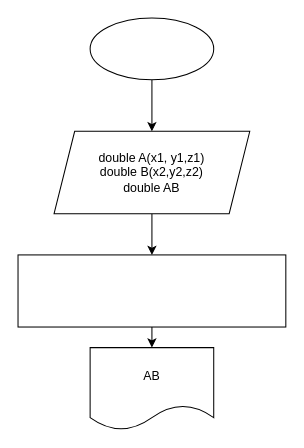
This 304x448 diagram has some shape labels left out. The box of each missing label's shape, as (x1, y1, x2, y2) in pixels:
AB = sqrt(pow((x2-x1),2)+((y2-y1),2)+((z2-z1)): (17, 254, 286, 327)
start: (89, 17, 214, 80)
